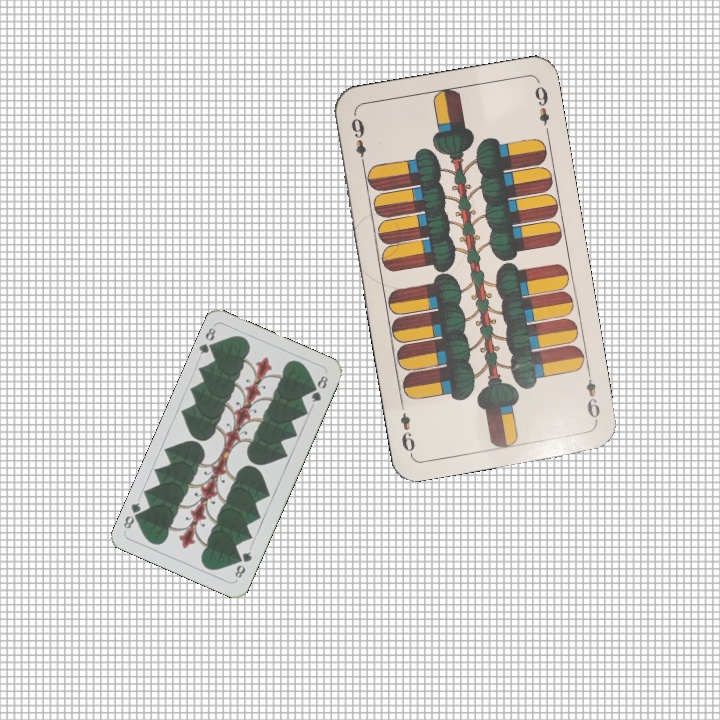E9: (347, 111, 369, 170), (582, 366, 603, 425)
G8: (195, 323, 220, 357), (231, 547, 255, 581)
